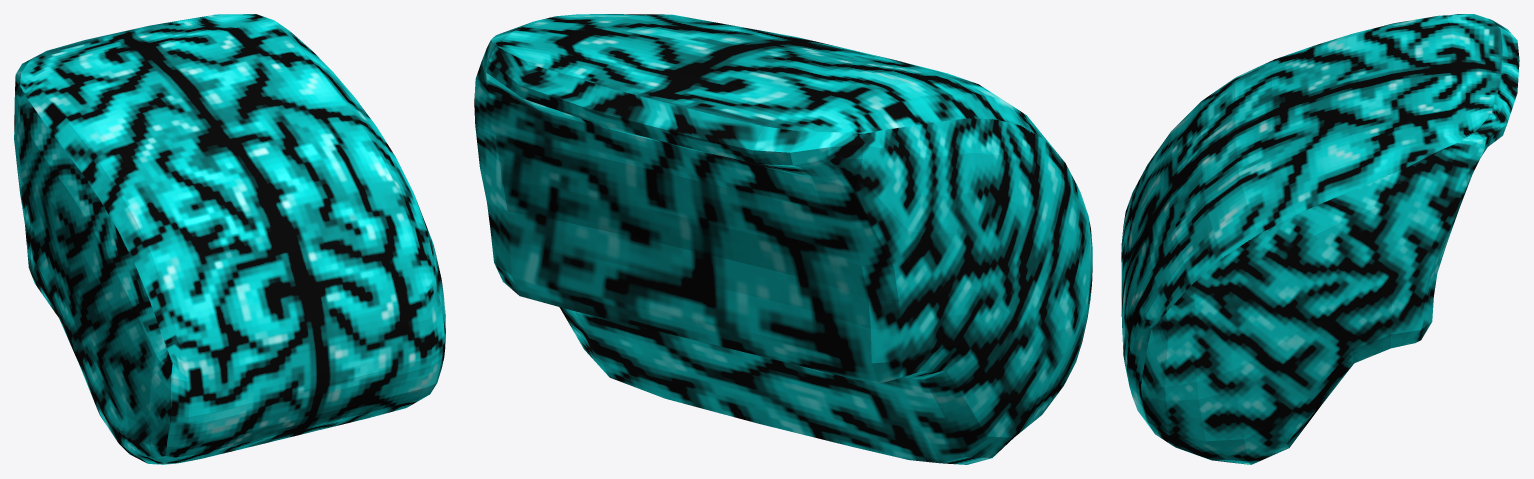
File: Frontal.player.fbx
The picture shows the model from 3 angles, left to right: view 1: azimuth 30°, elevation 25°; view 2: azimuth 150°, elevation 25°; view 3: azimuth 270°, elevation 25°; orthographic projection. The views are drawn at different scales.
Parts seen in each view (by area): view 1: frontal; view 2: frontal; view 3: frontal.
Boxes of the visible parts, left/top/right/bottom form: frontal: left=14, top=14, right=445, bottom=464; frontal: left=474, top=14, right=1092, bottom=464; frontal: left=1121, top=14, right=1519, bottom=464.
Bounding box in the file's own units: 251 × 238 × 256.
1 material, 1 textured.
